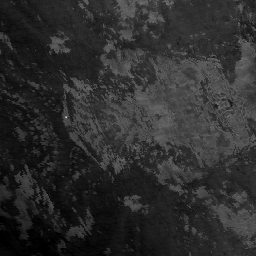Target: (63, 114, 68, 120)
